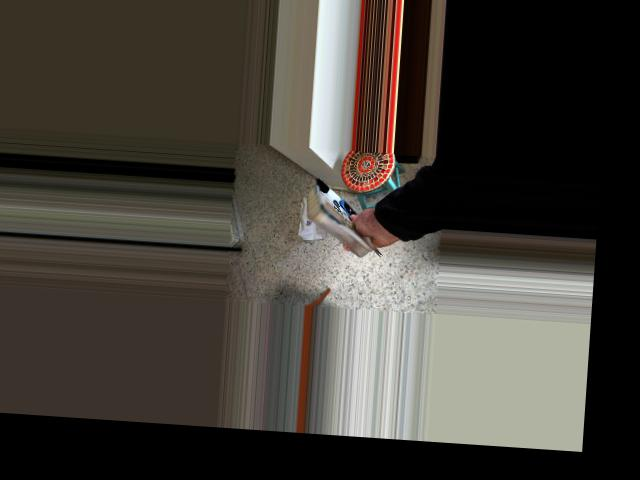cheese: (289, 165, 401, 268)
